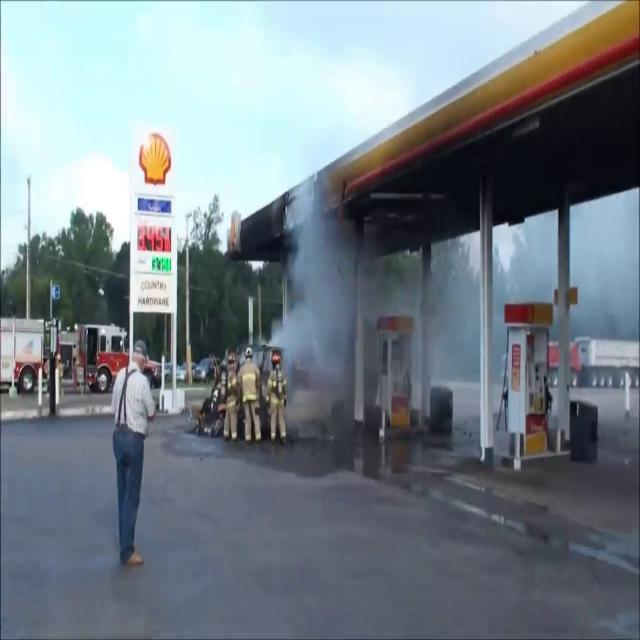Smoke: (274, 158, 454, 414)
